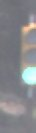Green: (16, 20, 36, 93)
